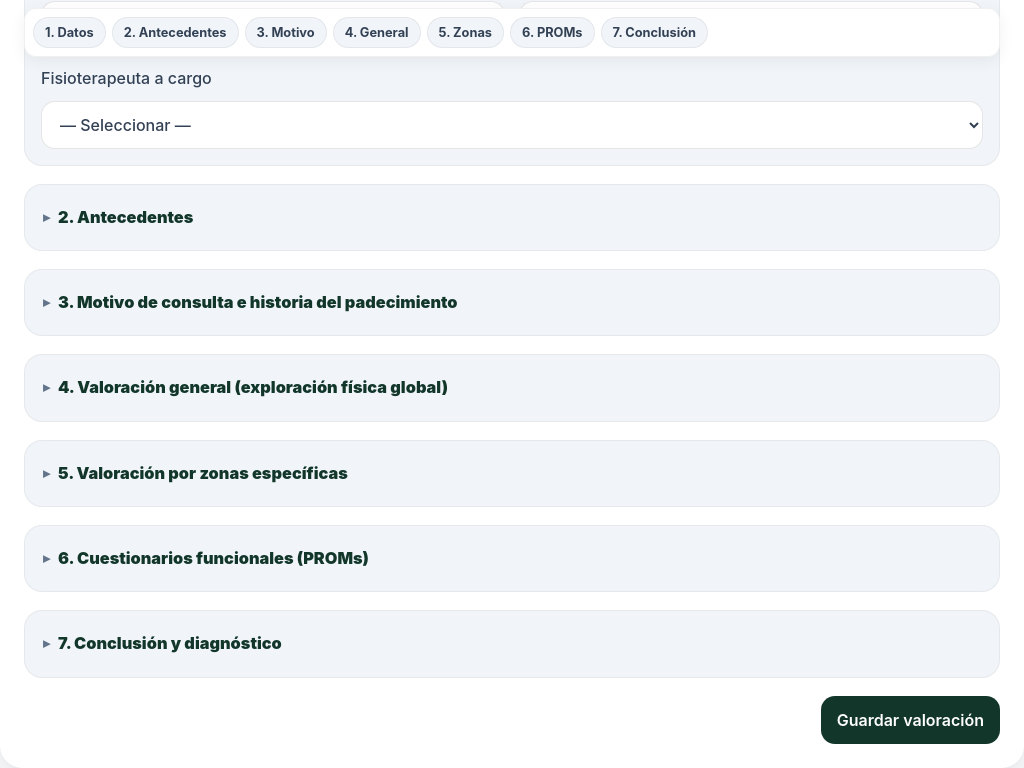
EvaluationForm › requires a patient before saving
(page scrolled)
Click the button "Guardar valoración" at (910, 720), box x1=821 y1=696 x2=1000 y2=744
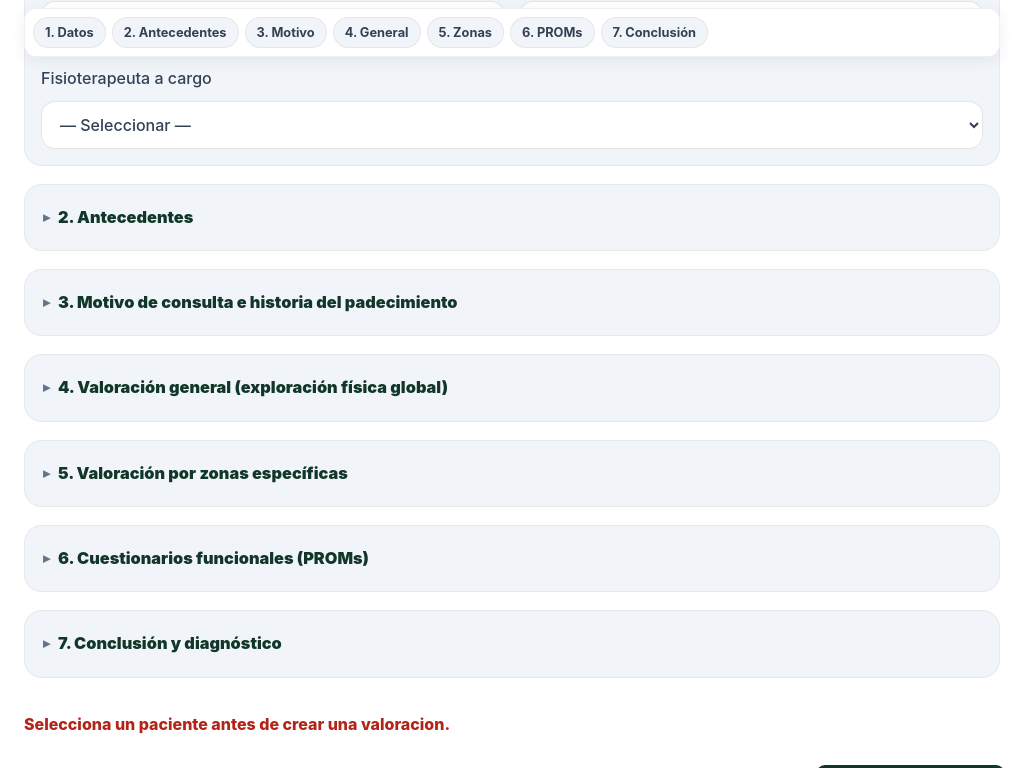
Expected: the message shows "Selecciona un paciente", x1=24 y1=714 x2=450 y2=734
